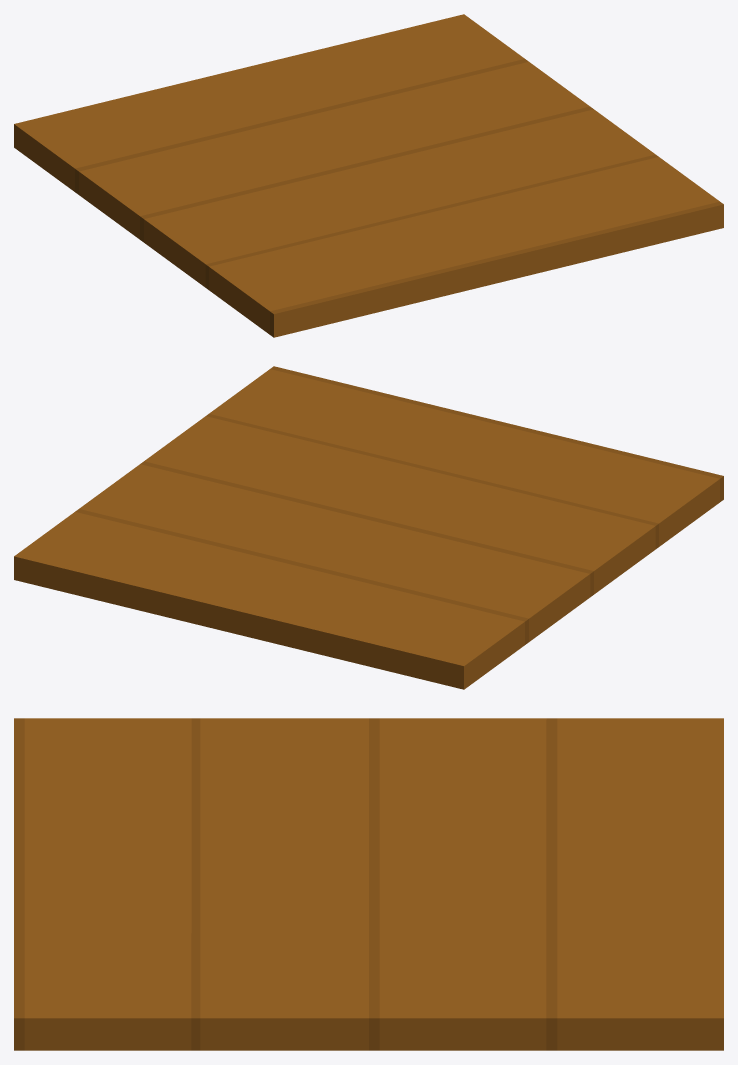
The model's file is floorWoodPlank.fbx.
3 views of the same model, one above another, from view 1: azimuth 30°, elevation 25°; view 2: azimuth 150°, elevation 25°; view 3: azimuth 270°, elevation 25° (orthographic). The views are drawn at different scales.
Visible parts, largest first — view 1: Floor Wood Plank; view 2: Floor Wood Plank; view 3: Floor Wood Plank.
Boxes of the visible parts, x1=… form: Floor Wood Plank: x1=14, y1=14, x2=723, y2=337; Floor Wood Plank: x1=14, y1=366, x2=723, y2=689; Floor Wood Plank: x1=14, y1=718, x2=723, y2=1050.
Size of the model in its own units: 200 by 200 by 10.
